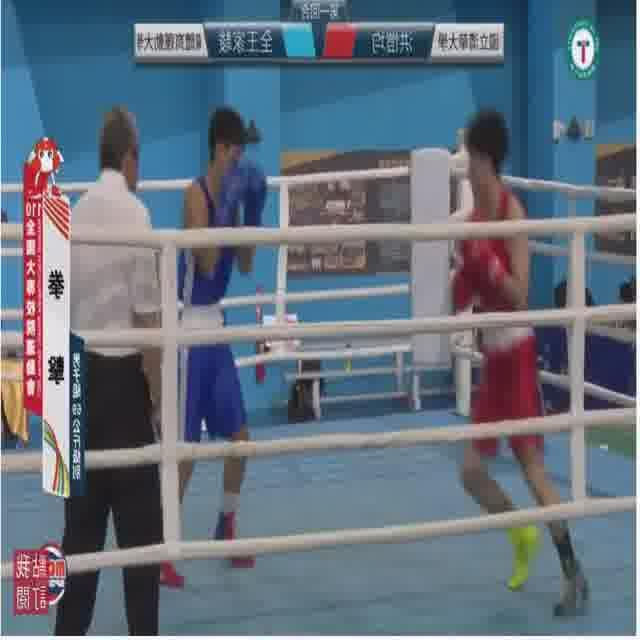blue-player: (146, 104, 269, 588)
red-player: (441, 105, 592, 622)
referee: (52, 105, 168, 636)
